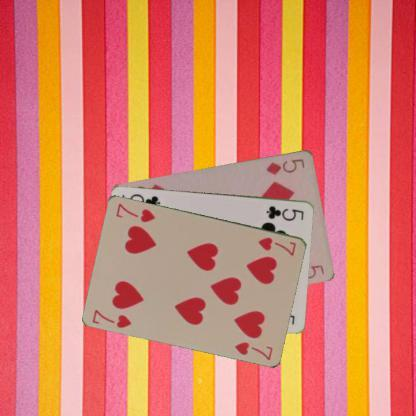5c: (264, 203, 305, 222)
5d: (264, 156, 306, 177)
7h: (90, 306, 134, 329), (256, 234, 298, 257)
